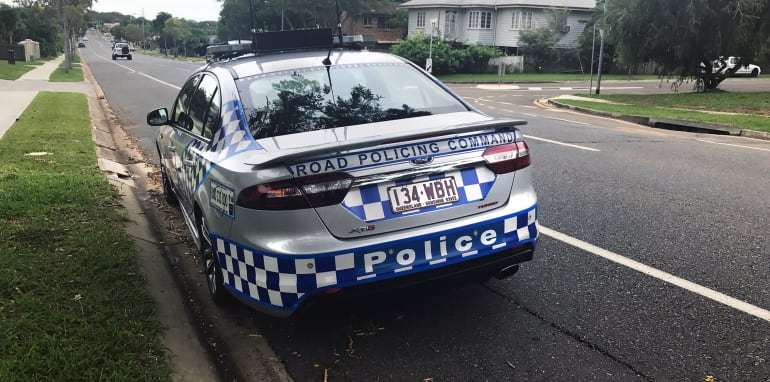license plate: (385, 173, 458, 215)
